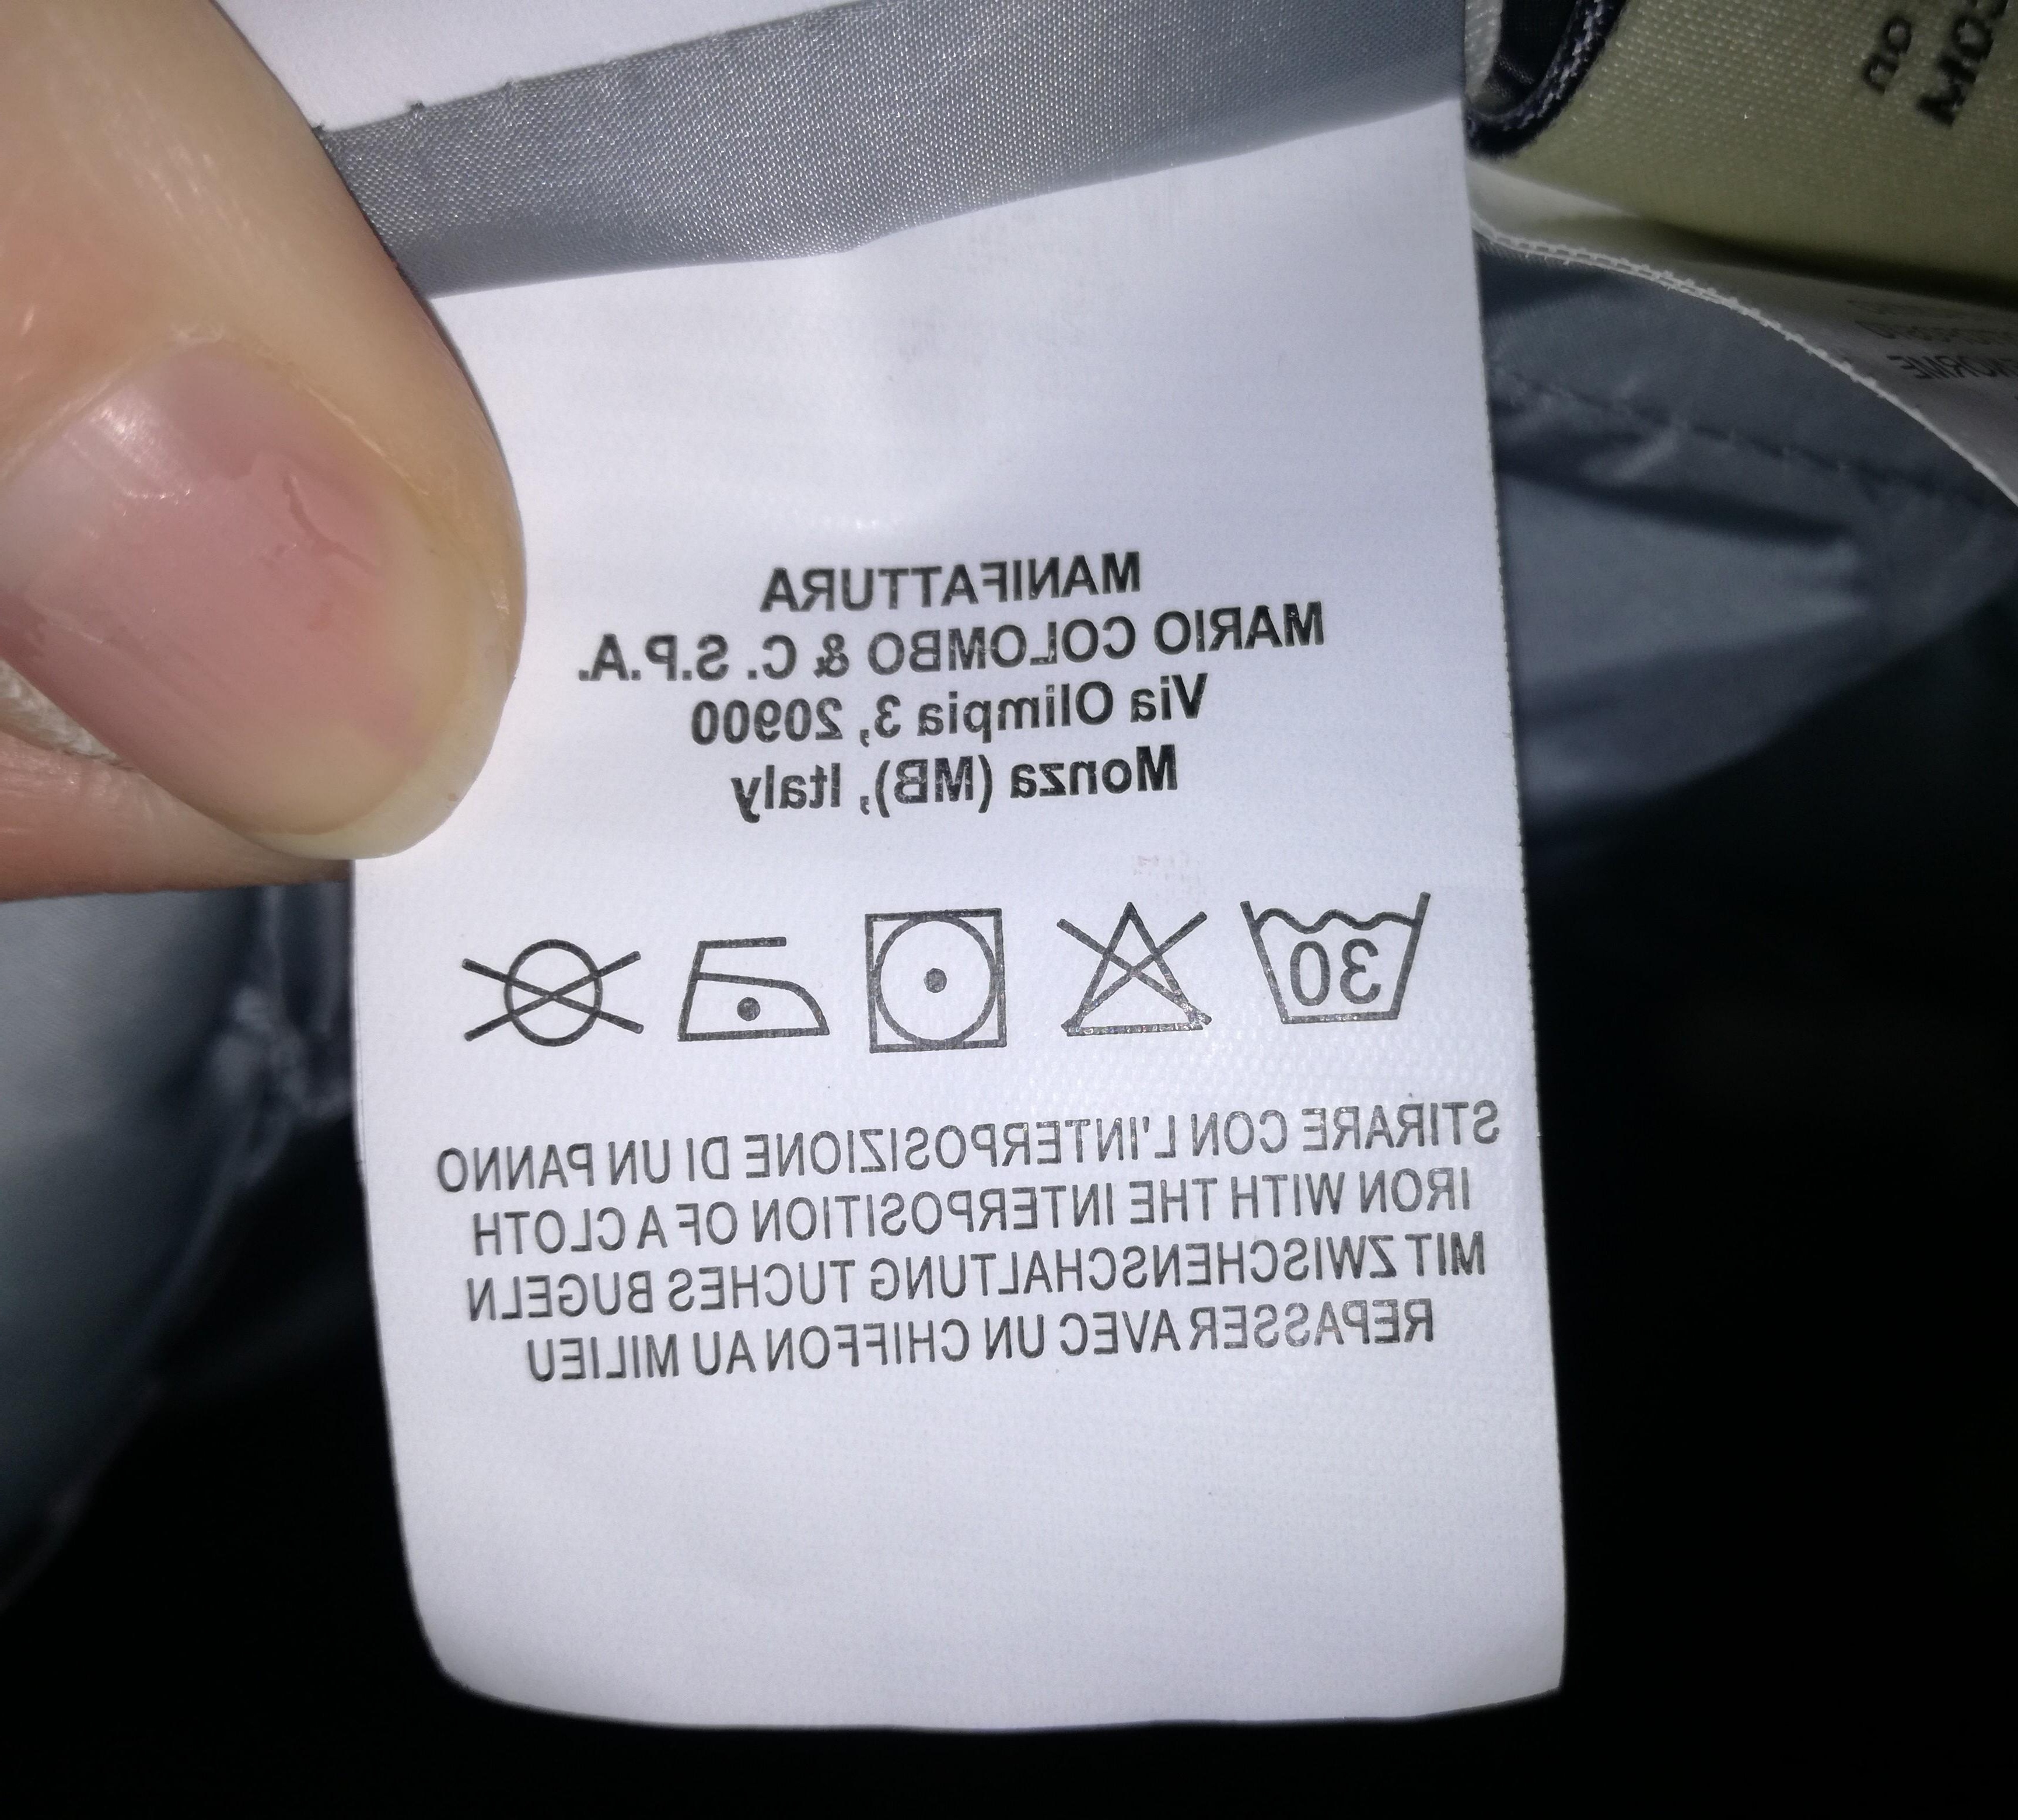30C: (1226, 877, 1435, 1044)
DN_bleach: (1049, 905, 1212, 1040)
DN_dry_clean: (443, 931, 650, 1061)
iron_low: (666, 928, 838, 1058)
tumble_dry_low: (855, 899, 1006, 1061)
